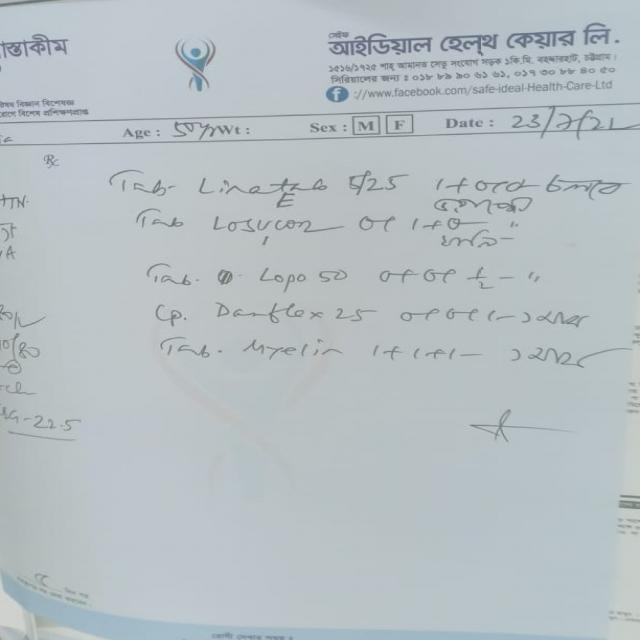Danflex: (207, 297, 330, 329)
Linatab E: (186, 167, 336, 199)
Lopo: (250, 262, 316, 293)
Losucon 1: (207, 211, 404, 245)
Myelin: (240, 335, 350, 367)
